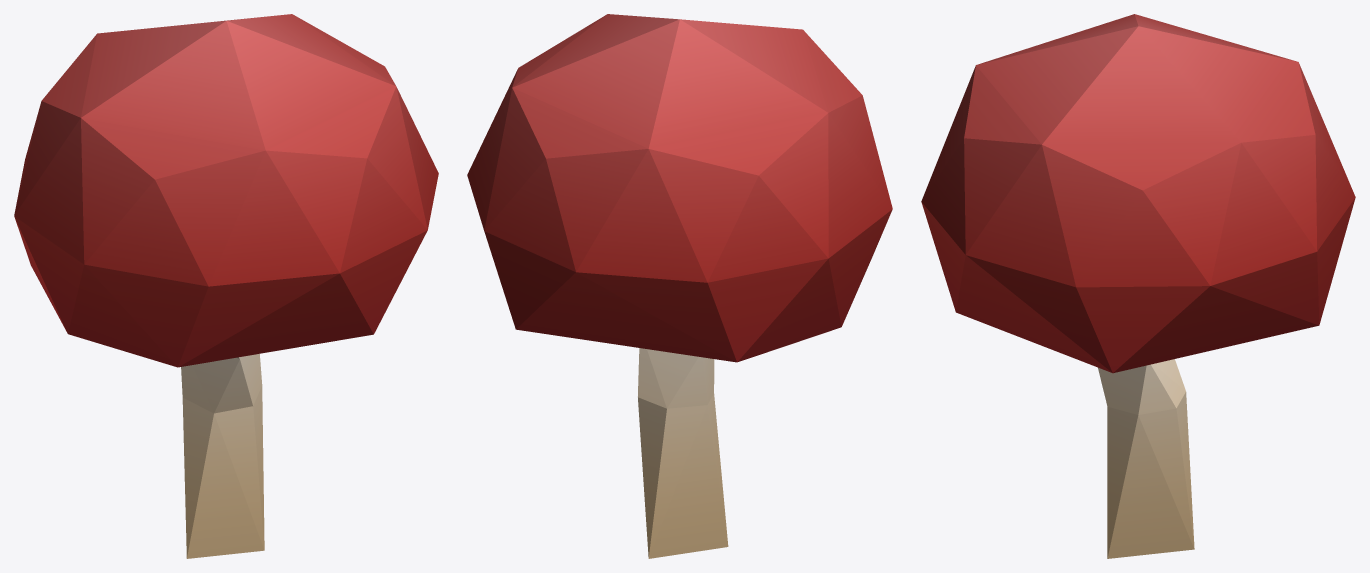
The model's file is Mushroom_03.fbx.
3 renders of one model, left to right at view 1: azimuth 30°, elevation 25°; view 2: azimuth 150°, elevation 25°; view 3: azimuth 270°, elevation 25°, orthographic.
Visible parts, largest first — view 1: Mushroom_03; view 2: Mushroom_03; view 3: Mushroom_03.
Part boxes in pixels (<box>): Mushroom_03: <box>14,14,438,558</box>; Mushroom_03: <box>467,14,892,558</box>; Mushroom_03: <box>921,14,1355,558</box>.
Bounding box in the file's own units: 0.309 × 0.4275 × 0.3225.
